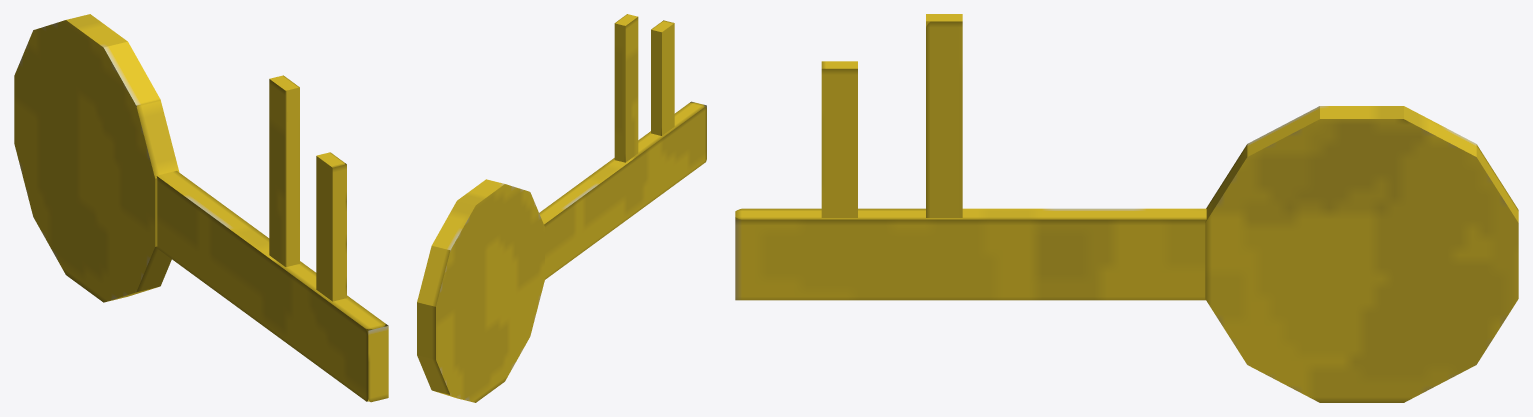
File: Llave.fbx
3 views of the same model, side by side, from view 1: azimuth 30°, elevation 25°; view 2: azimuth 150°, elevation 25°; view 3: azimuth 270°, elevation 25° (orthographic). The views are drawn at different scales.
Visible parts, largest first — view 1: cylinder, cuboid, cuboid_2, cuboid_1; view 2: cylinder, cuboid, cuboid_2, cuboid_1; view 3: cylinder, cuboid, cuboid_2, cuboid_1.
Part boxes in pixels (<box>): cylinder: <box>14,14,179,302</box>; cuboid: <box>156,171,388,402</box>; cuboid_2: <box>269,75,299,266</box>; cuboid_1: <box>316,152,346,301</box>; cylinder: <box>417,179,544,402</box>; cuboid: <box>539,101,706,279</box>; cuboid_2: <box>614,14,638,162</box>; cuboid_1: <box>651,20,674,135</box>; cylinder: <box>1205,106,1518,402</box>; cuboid: <box>735,208,1206,300</box>; cuboid_2: <box>926,14,962,217</box>; cuboid_1: <box>821,61,857,217</box>.
Bounding box in the file's own units: 0.6 × 8 × 15.
Materials: 1 (1 with a texture image).
